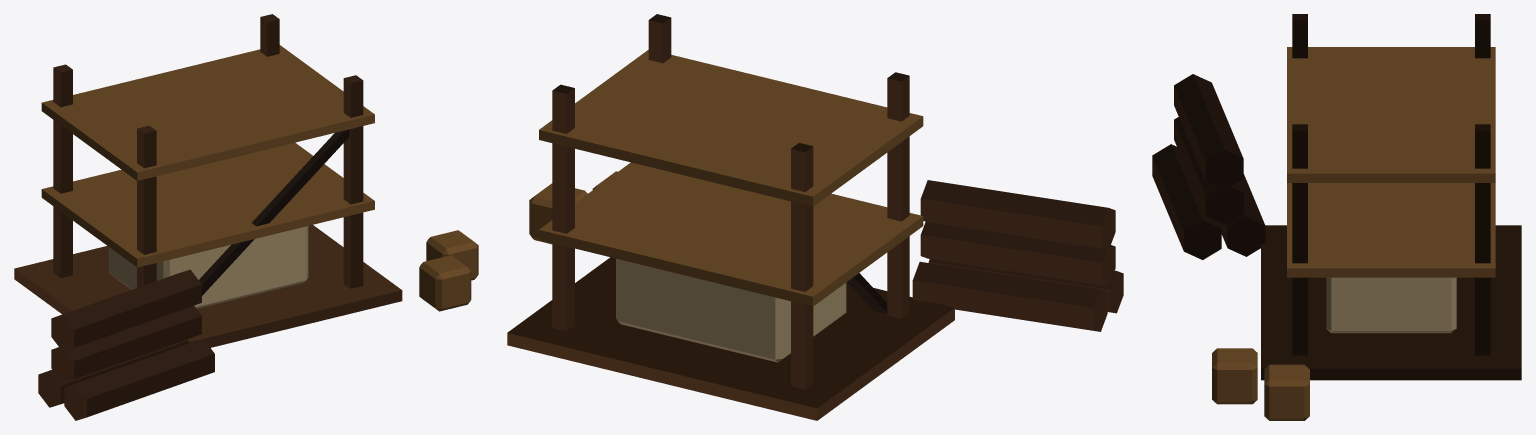
Rendered from site.obj.
3 renders of one model, left to right at view 1: azimuth 30°, elevation 25°; view 2: azimuth 150°, elevation 25°; view 3: azimuth 270°, elevation 25°, orthographic. The views are drawn at different scales.
Parts seen in each view (by area): view 1: core_plank, core_wood, core_dirt, core_stone, core_wood_dark; view 2: core_plank, core_wood, core_dirt, core_stone, core_wood_dark; view 3: core_plank, core_wood, core_dirt, core_stone.
Boxes of the visible parts, box(x1,y1,x2,y2) form: core_plank: box(41, 45, 478, 311); core_wood: box(38, 14, 363, 420); core_dirt: box(14, 225, 402, 347); core_stone: box(108, 226, 308, 308); core_wood_dark: box(199, 129, 349, 295); core_plank: box(529, 50, 923, 306); core_wood: box(552, 14, 1123, 389); core_dirt: box(507, 257, 954, 420); core_stone: box(616, 258, 846, 362); core_wood_dark: box(847, 273, 887, 313); core_plank: box(1212, 47, 1495, 420); core_wood: box(1152, 14, 1490, 355); core_dirt: box(1261, 225, 1521, 380); core_stone: box(1326, 277, 1456, 333).
Bounding box in the file's own units: 0.4419 × 0.2031 × 0.2834.
